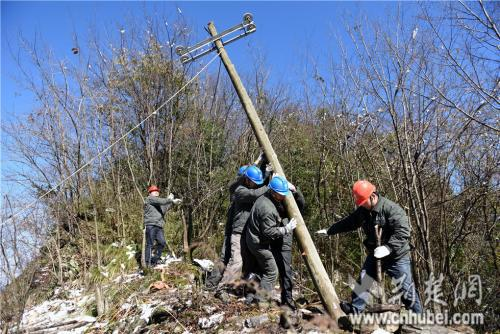helmet: (349, 177, 378, 209), (267, 175, 290, 204), (240, 165, 265, 191), (145, 184, 161, 203)
